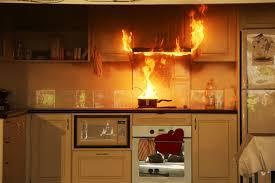fire: (137, 58, 159, 99)
